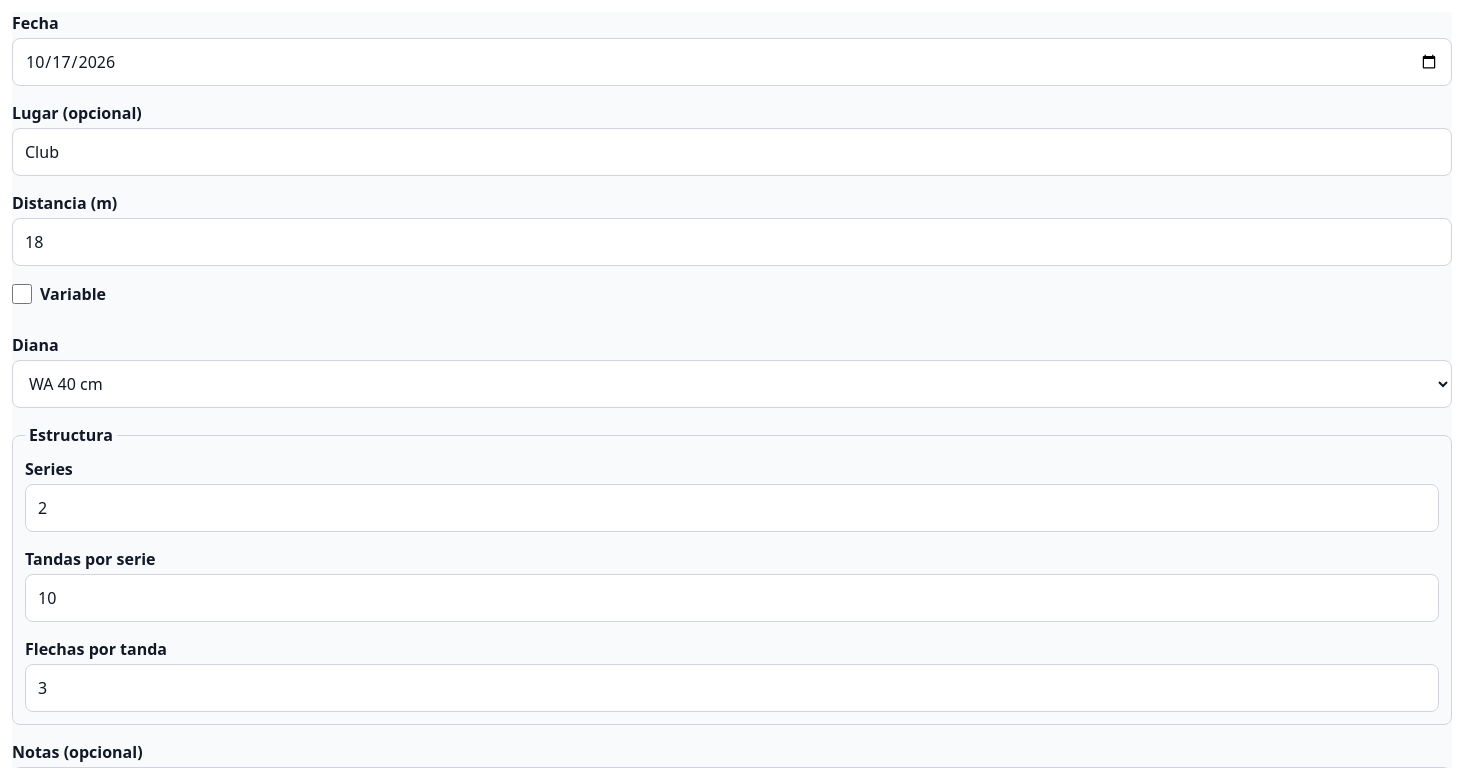
Test: SessionForm events › checking «Variable» blanks and disables the distance; values flow through v-model
Click the checkbox labelled "Variable": (22, 294) [12,284,32,304]
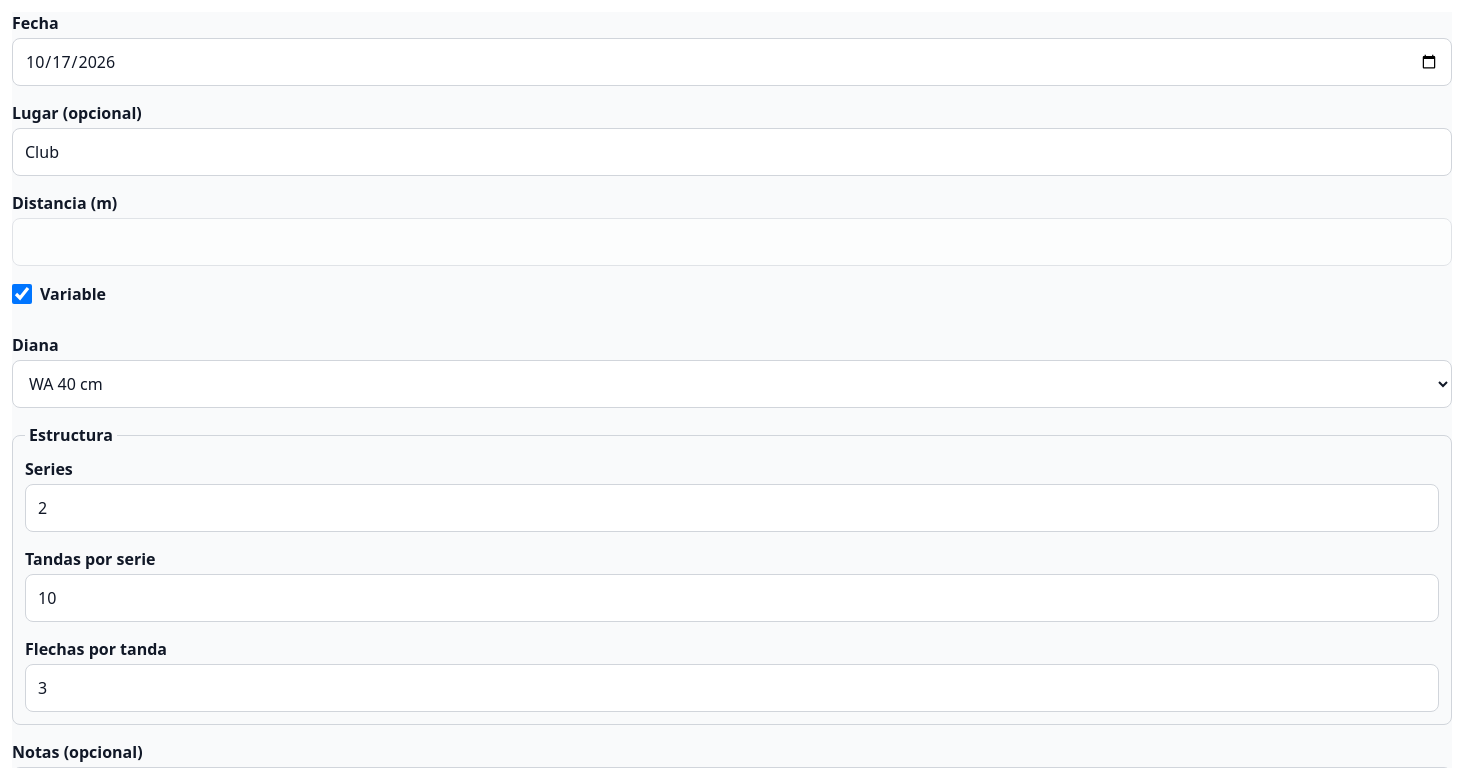
Result: the field with id "xx-distance" is disabled at [12,218,1452,266]
